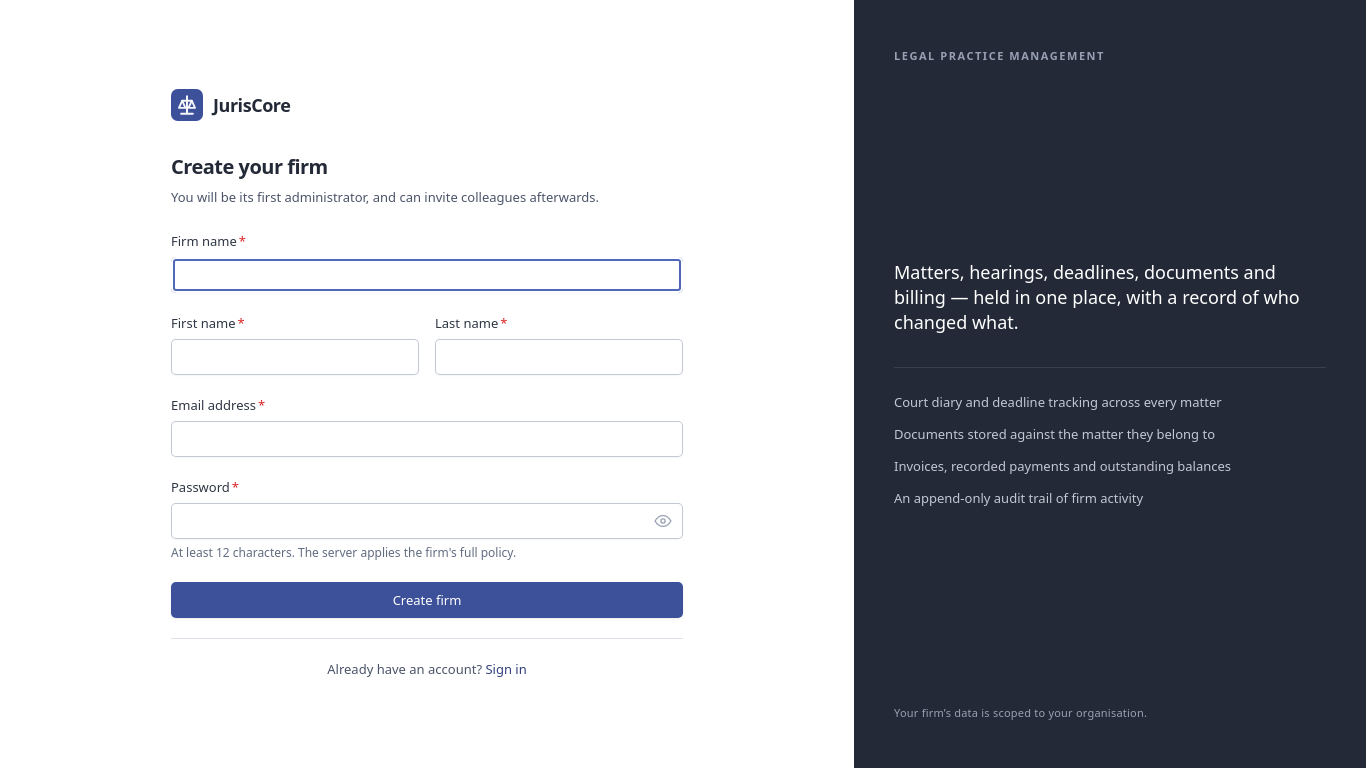
Test: RegisterPage › shows a duplicate-firm conflict from the server as it was written
Type "xyz" into the field labelled "Firm name*" at (427, 275), box [171, 257, 683, 293]
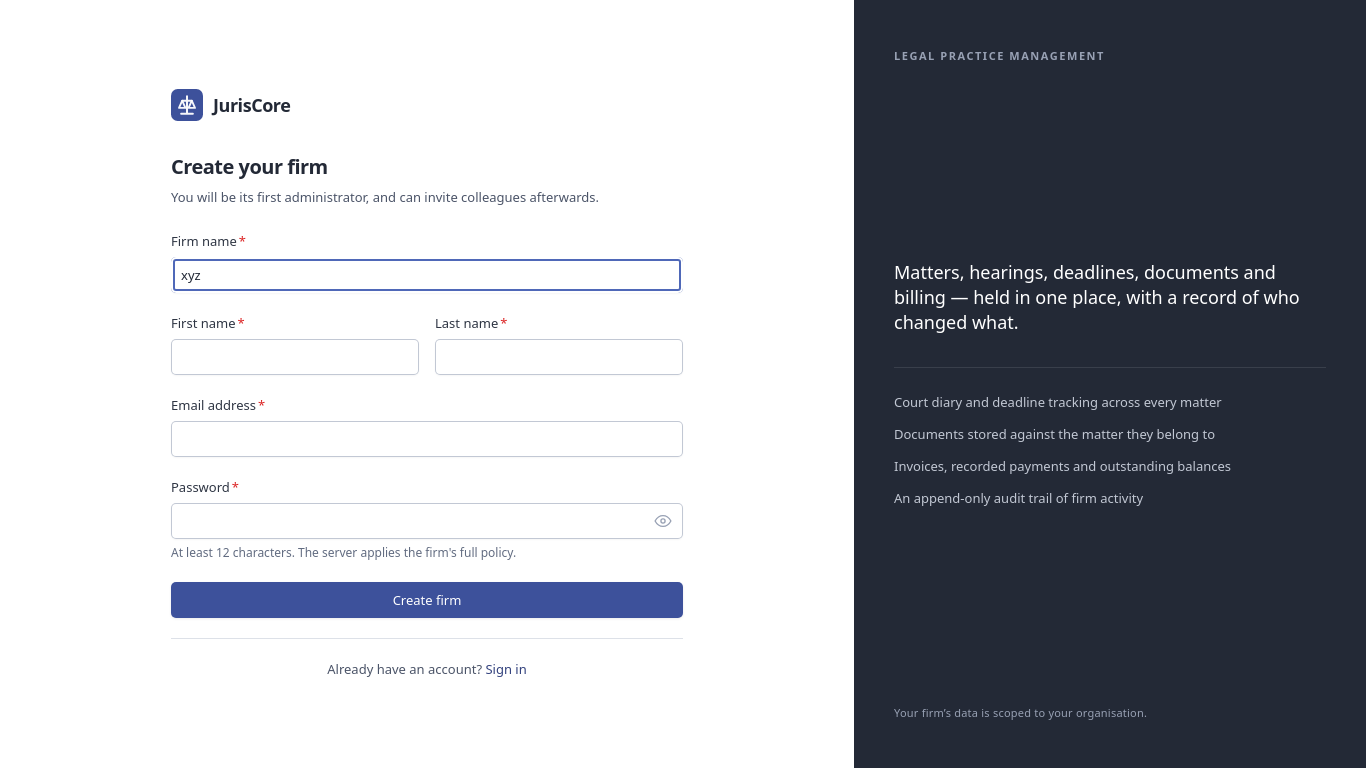
Type "Arsh" into the field labelled "First name*" at (295, 357), box [171, 339, 419, 375]
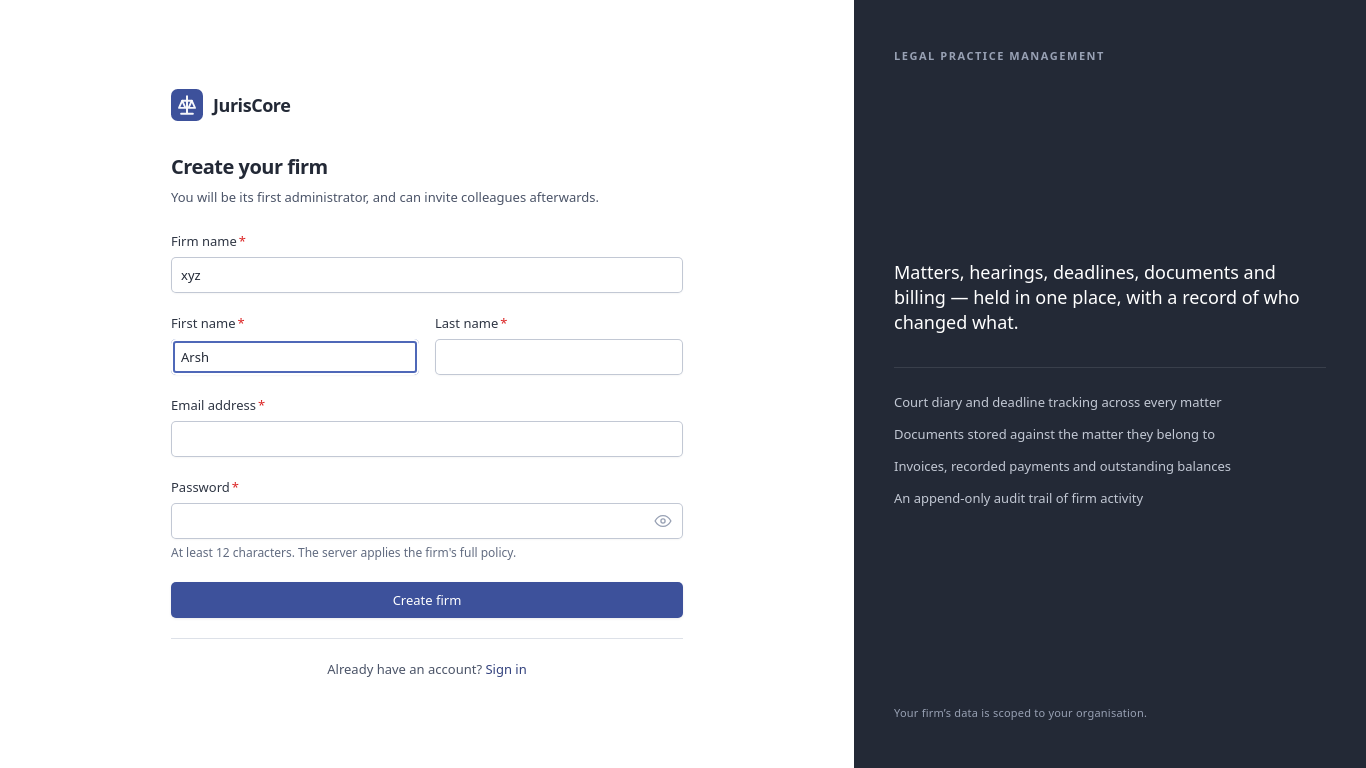
Type "Raj" into the field labelled "Last name*" at (559, 357), box [435, 339, 683, 375]
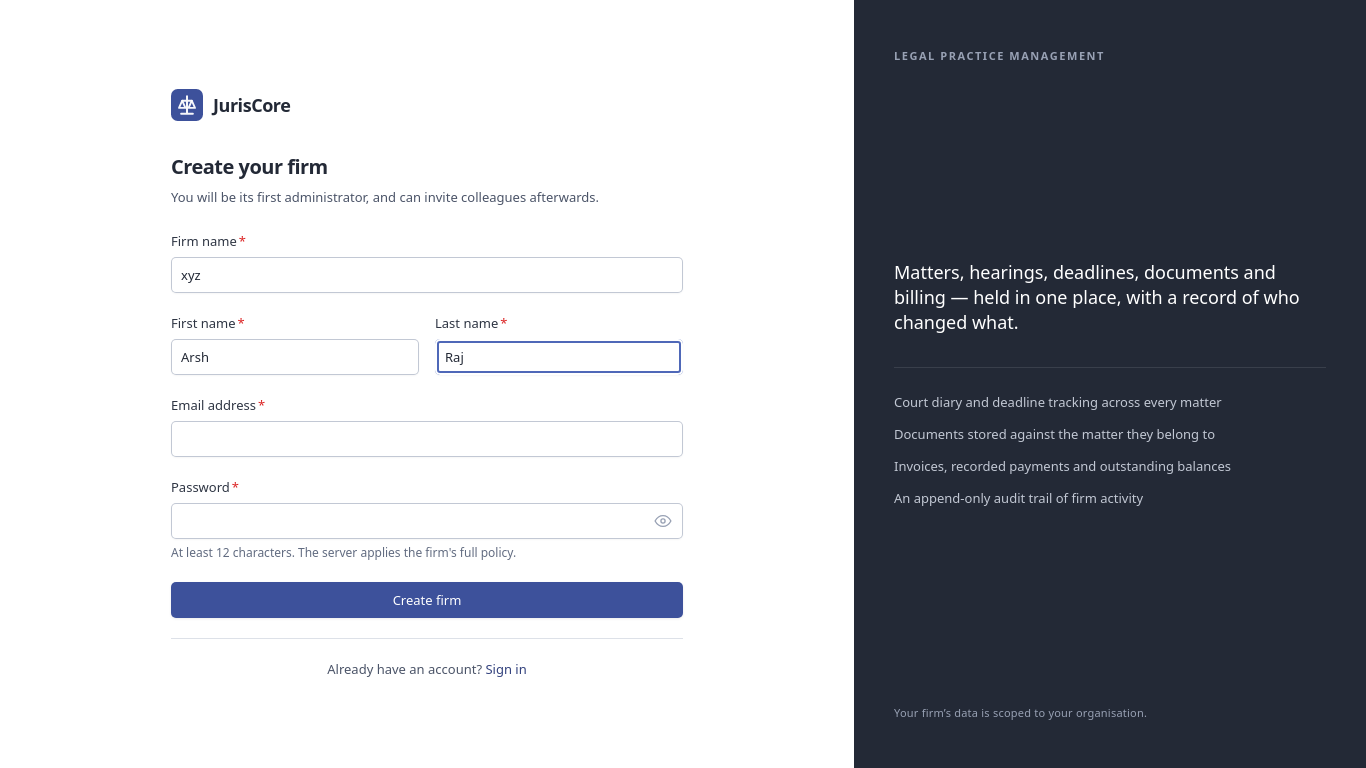
Type "arsh@example.test" into the field labelled "Email address*" at (427, 439), box [171, 421, 683, 457]
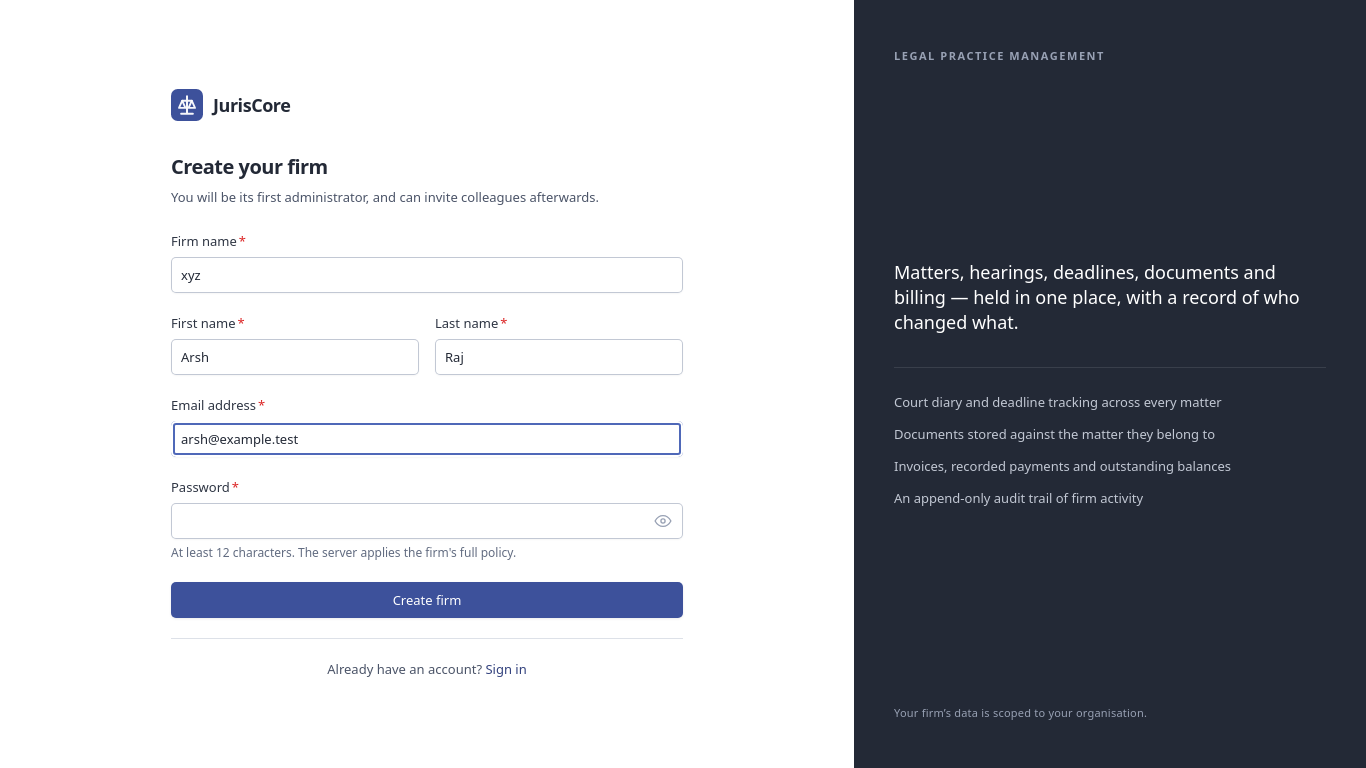
Type "Correct-Horse7!" into the password field labelled "Password*" at (427, 521), box [171, 503, 683, 539]
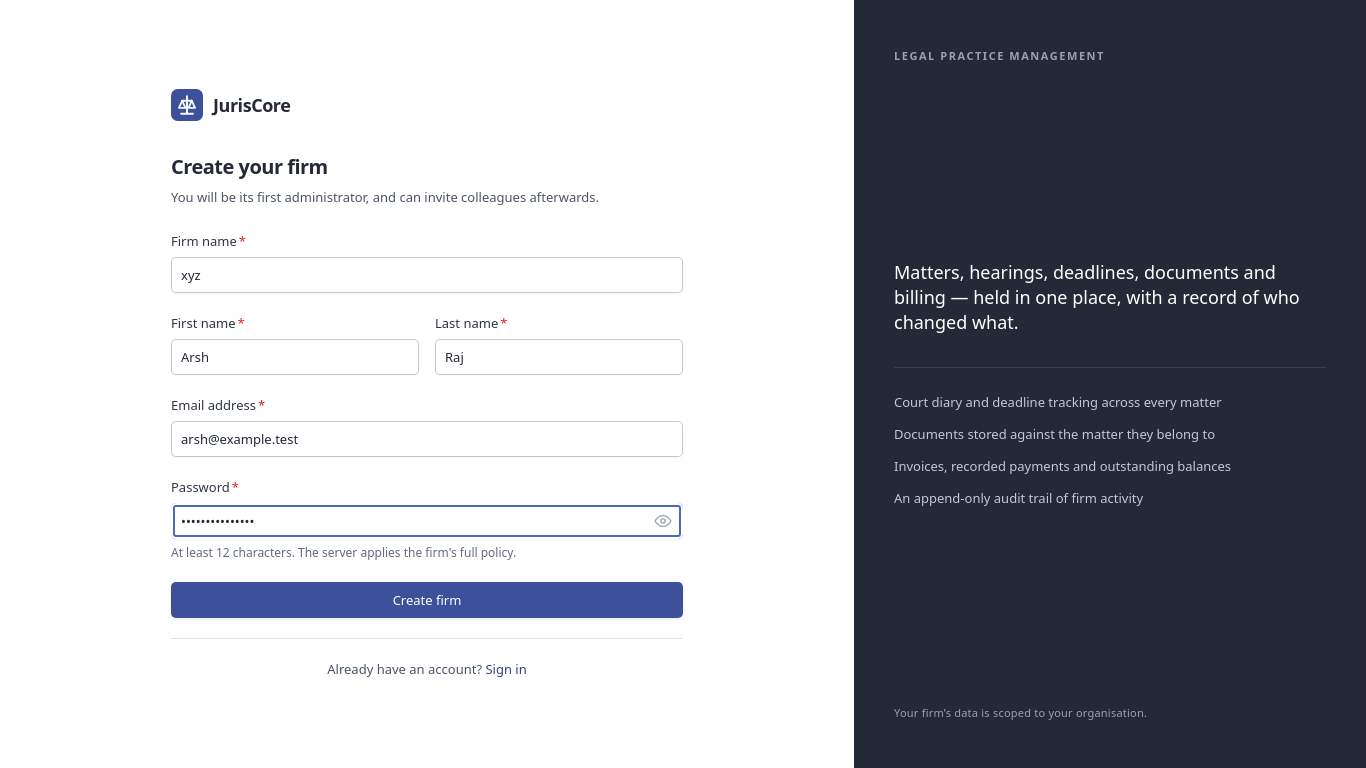
Click the button "Create firm" at (427, 600), box [171, 582, 683, 618]
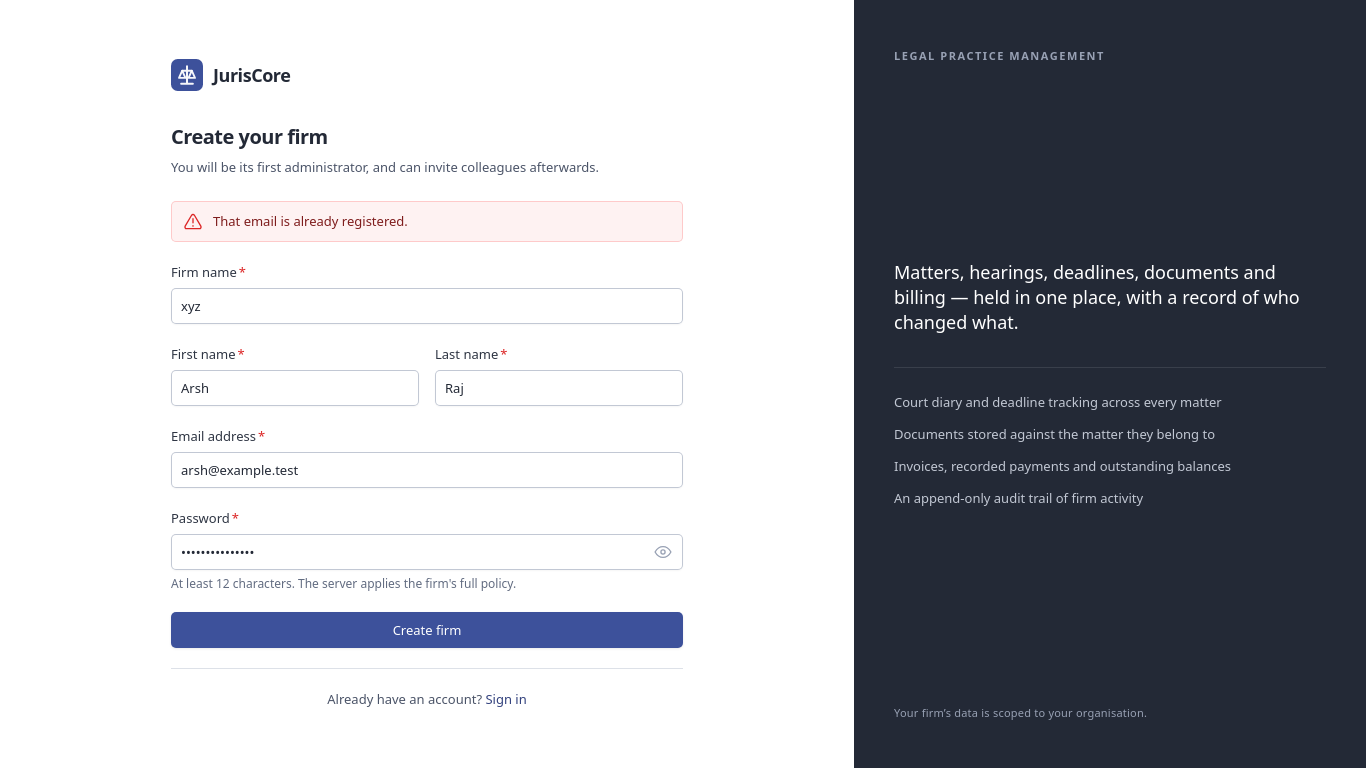
Now the message reads "That email is already registered.", box [213, 212, 408, 230]
